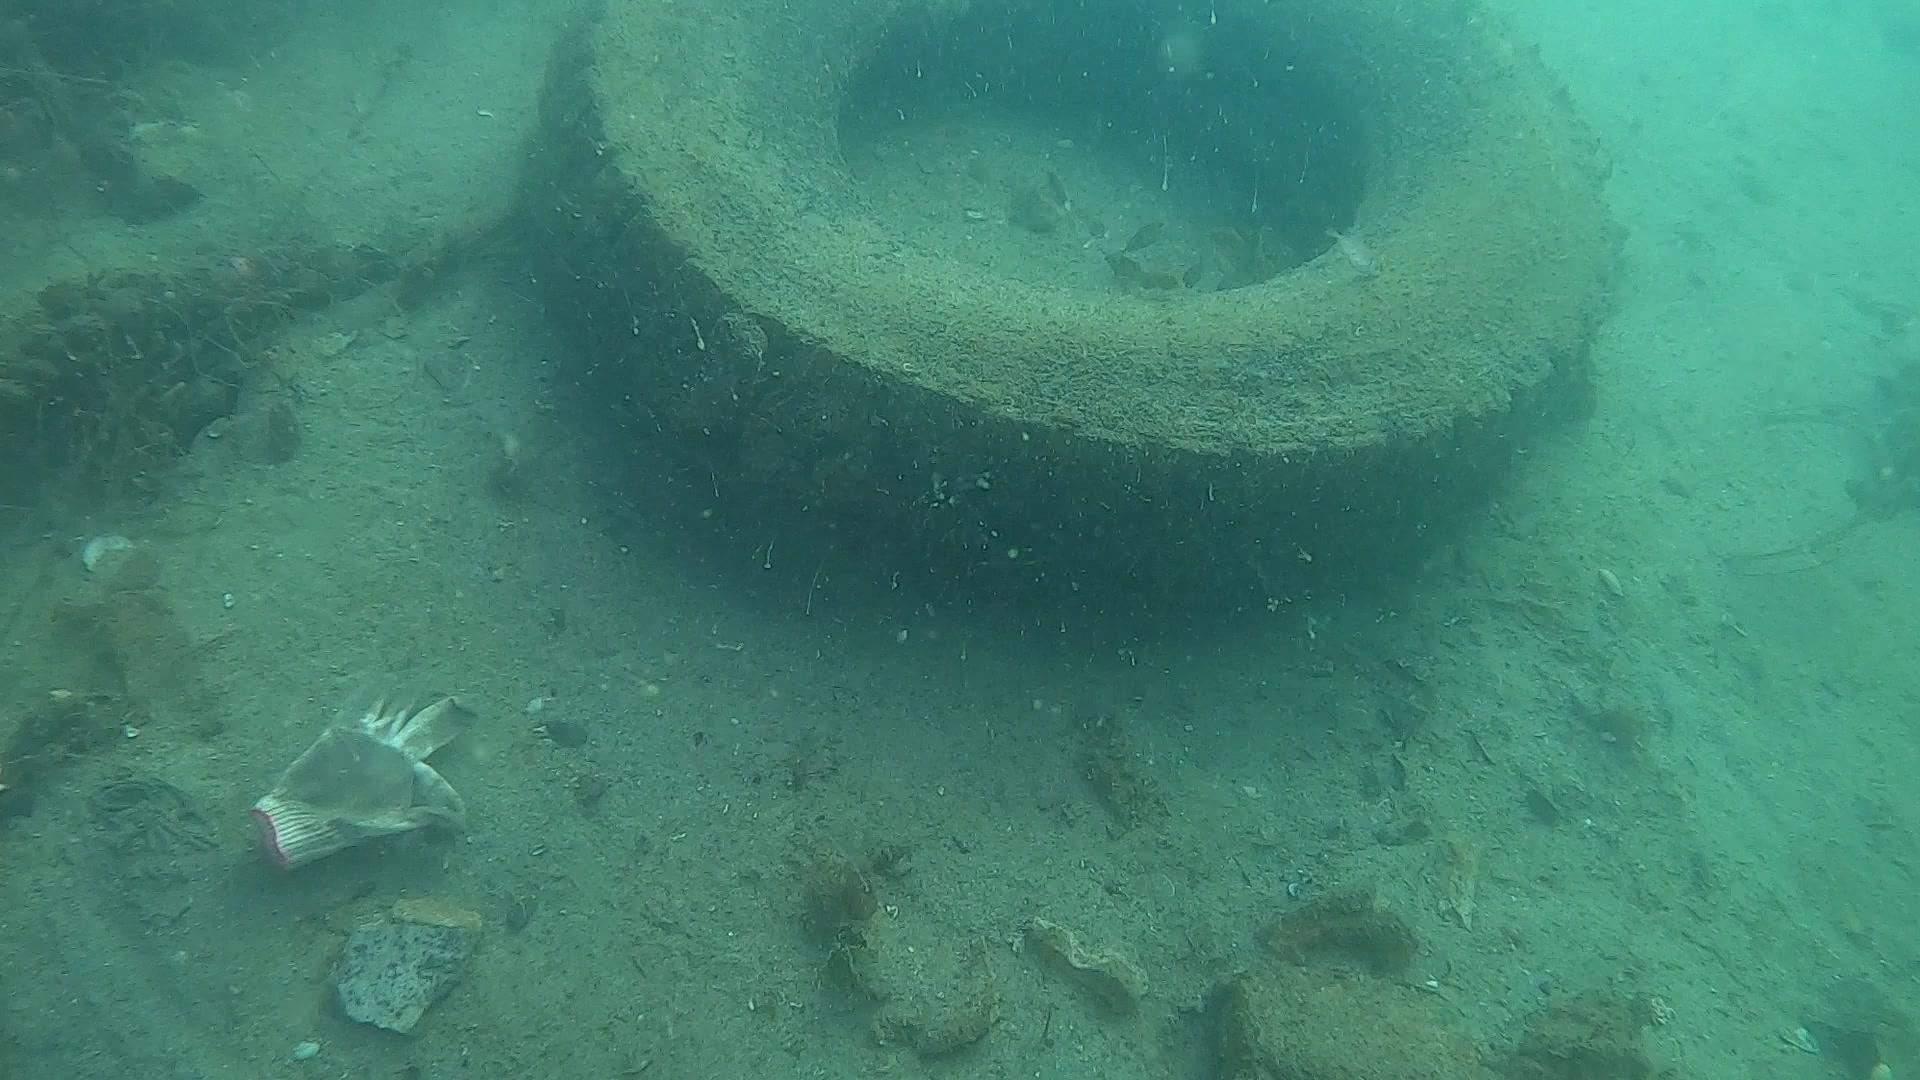tire: (535, 3, 1615, 597)
